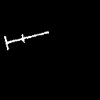double_crochet: (4, 32, 48, 49)
